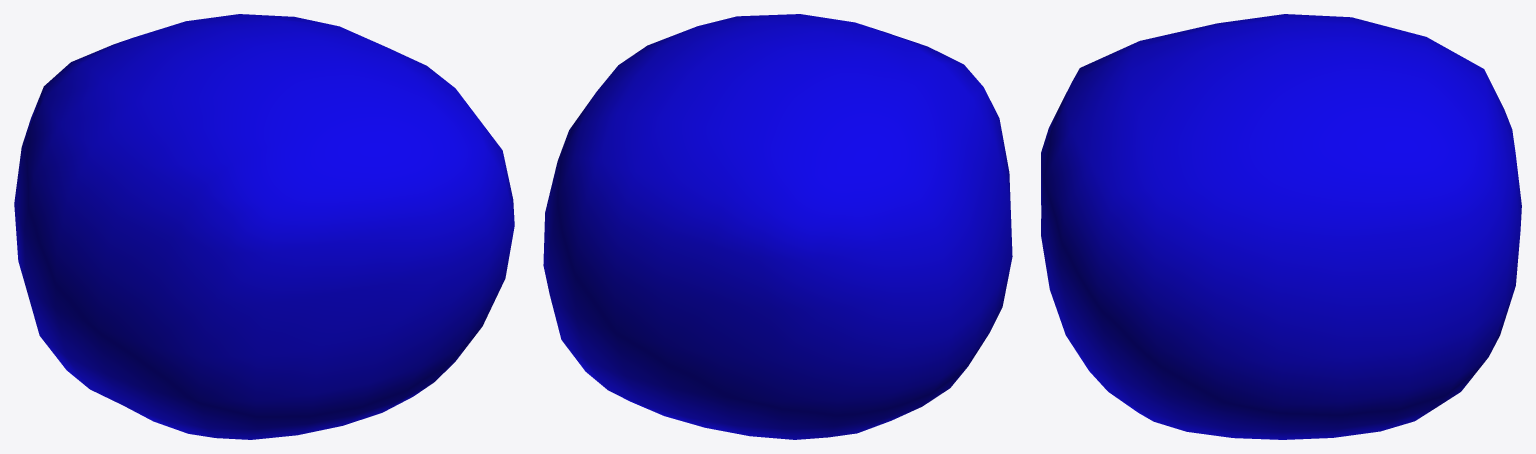
Rendered from correct_normals_slime.fbx.
3 renders of one model, left to right at view 1: azimuth 30°, elevation 25°; view 2: azimuth 150°, elevation 25°; view 3: azimuth 270°, elevation 25°, orthographic. The views are drawn at different scales.
Visible parts, largest first — view 1: Slime; view 2: Slime; view 3: Slime.
Boxes of the visible parts, x1,y1,x2,y2 form: Slime: (14,14,514,439); Slime: (543,14,1012,439); Slime: (1041,14,1521,439).
Bounding box in the file's own units: 94.4 × 74.05 × 94.22.
